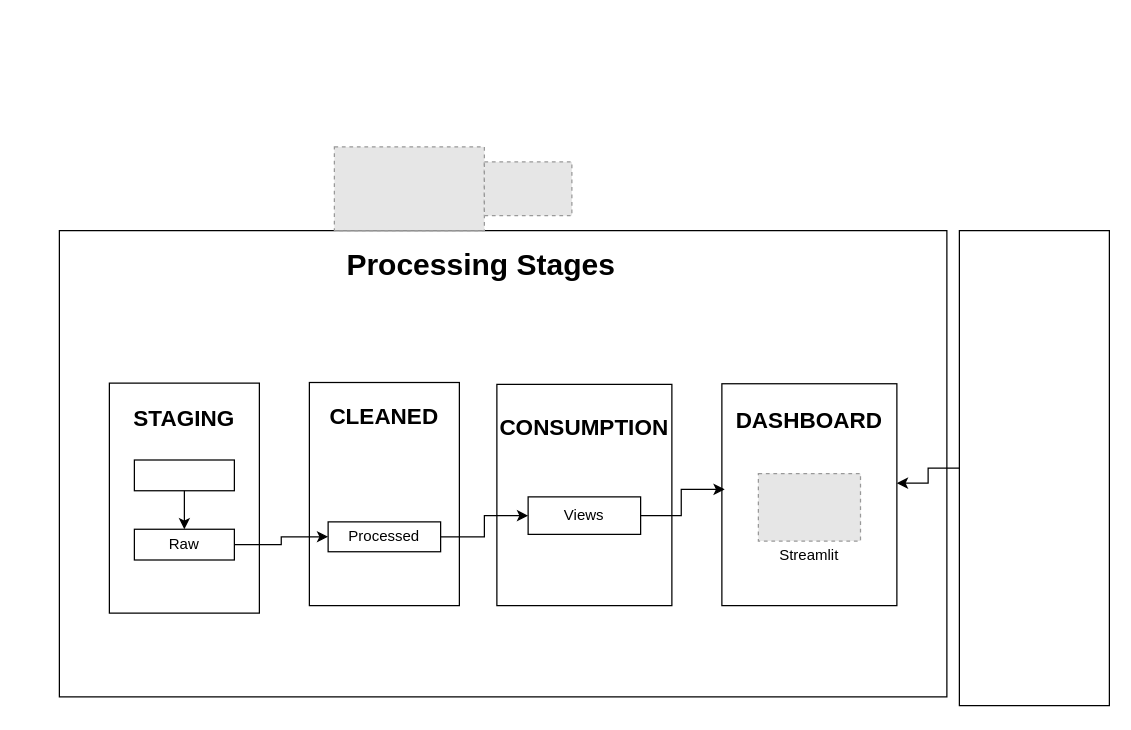
Some shapes in this 1131 by 730 pixel diagram are drawn without their labels. Grey dashed boxes stand in for pictures. Here are the shapes that lost their labels. From the top down, the centre of each, then its label:
the point at 183,475: CSV files
the point at 1033,467: END USERS
